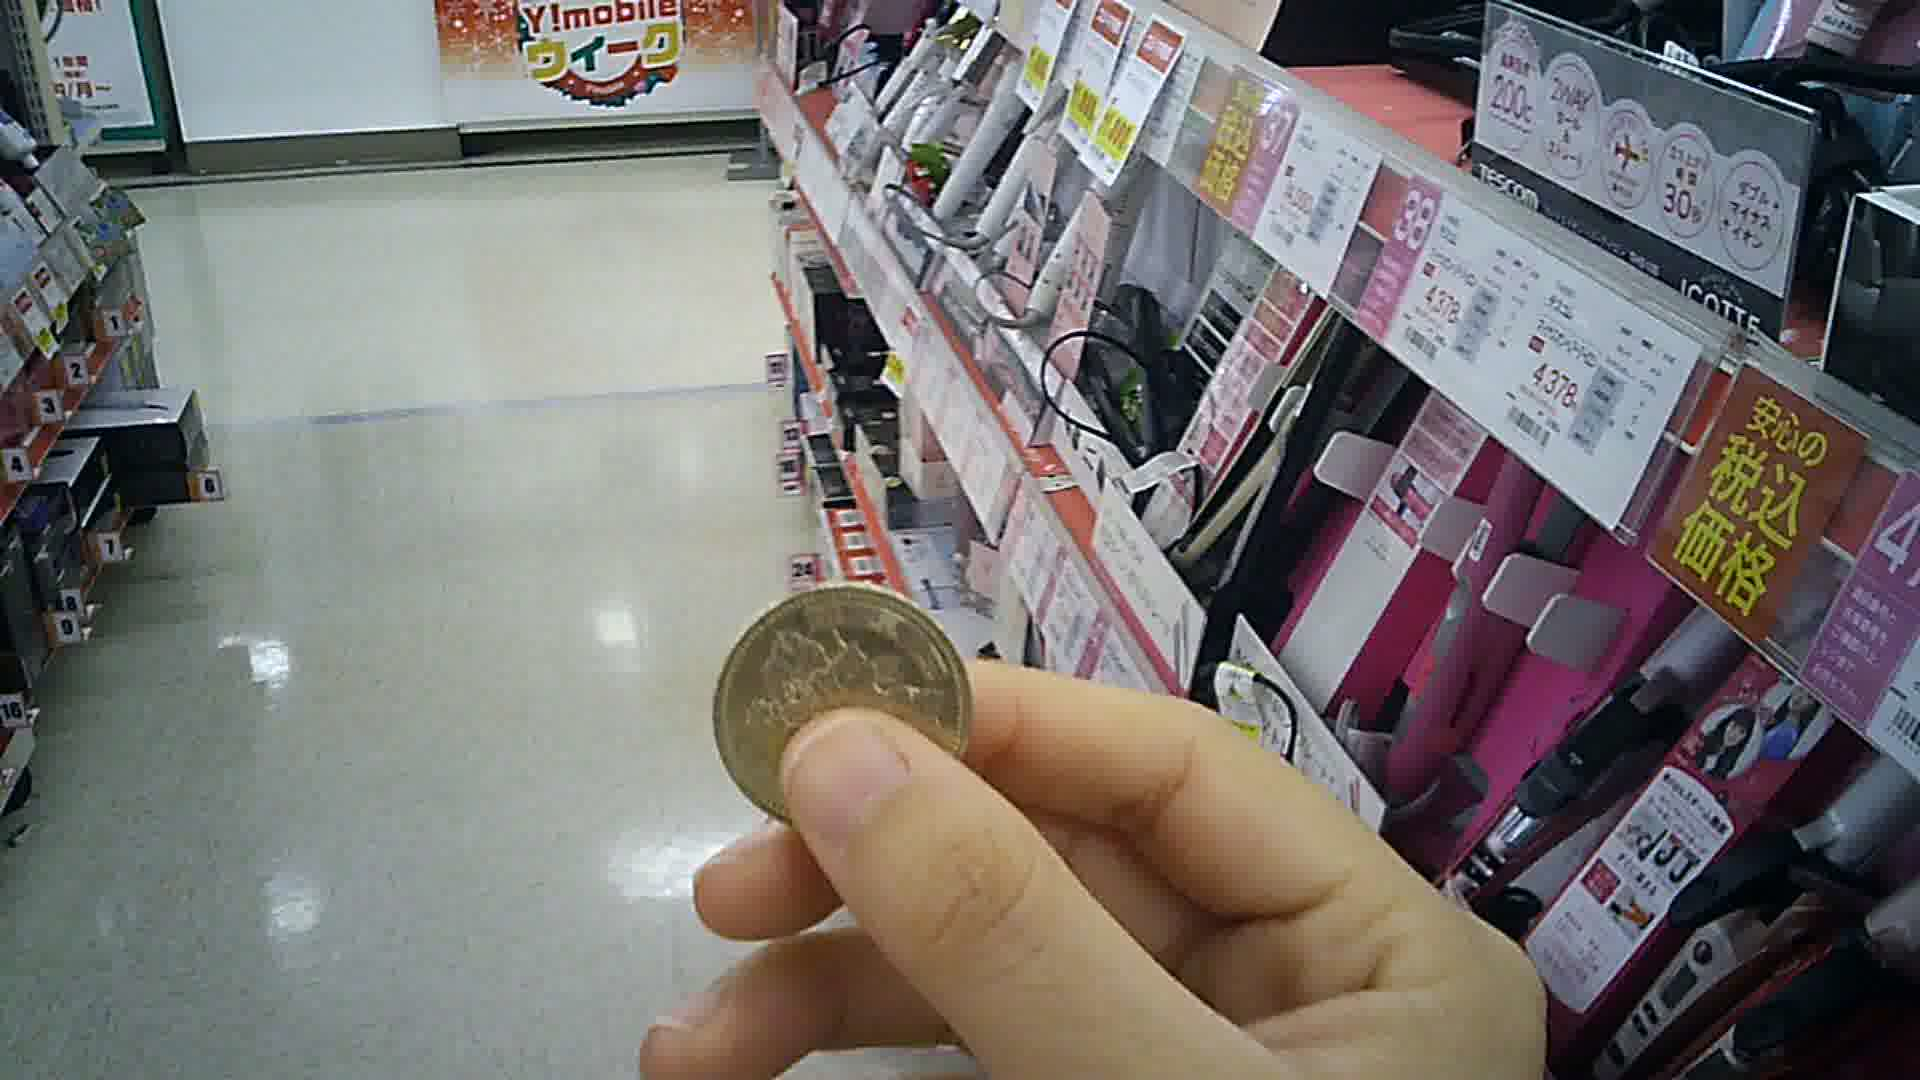500 Yen: (716, 585, 971, 822)
